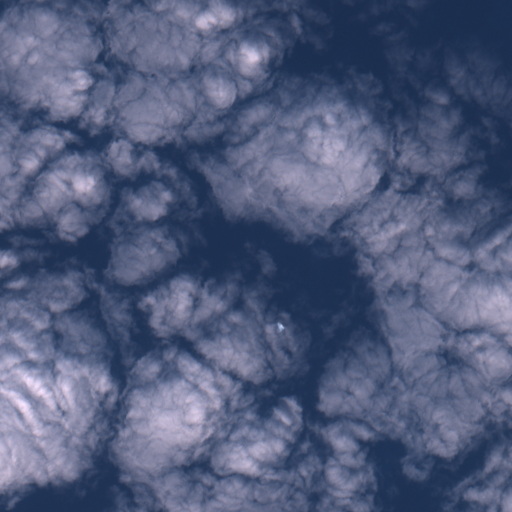Iceberg: (278, 322, 284, 331)
